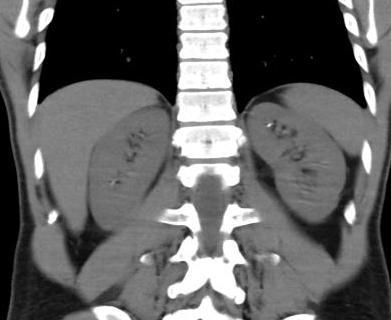Tas_Var: (266, 121, 274, 129)
